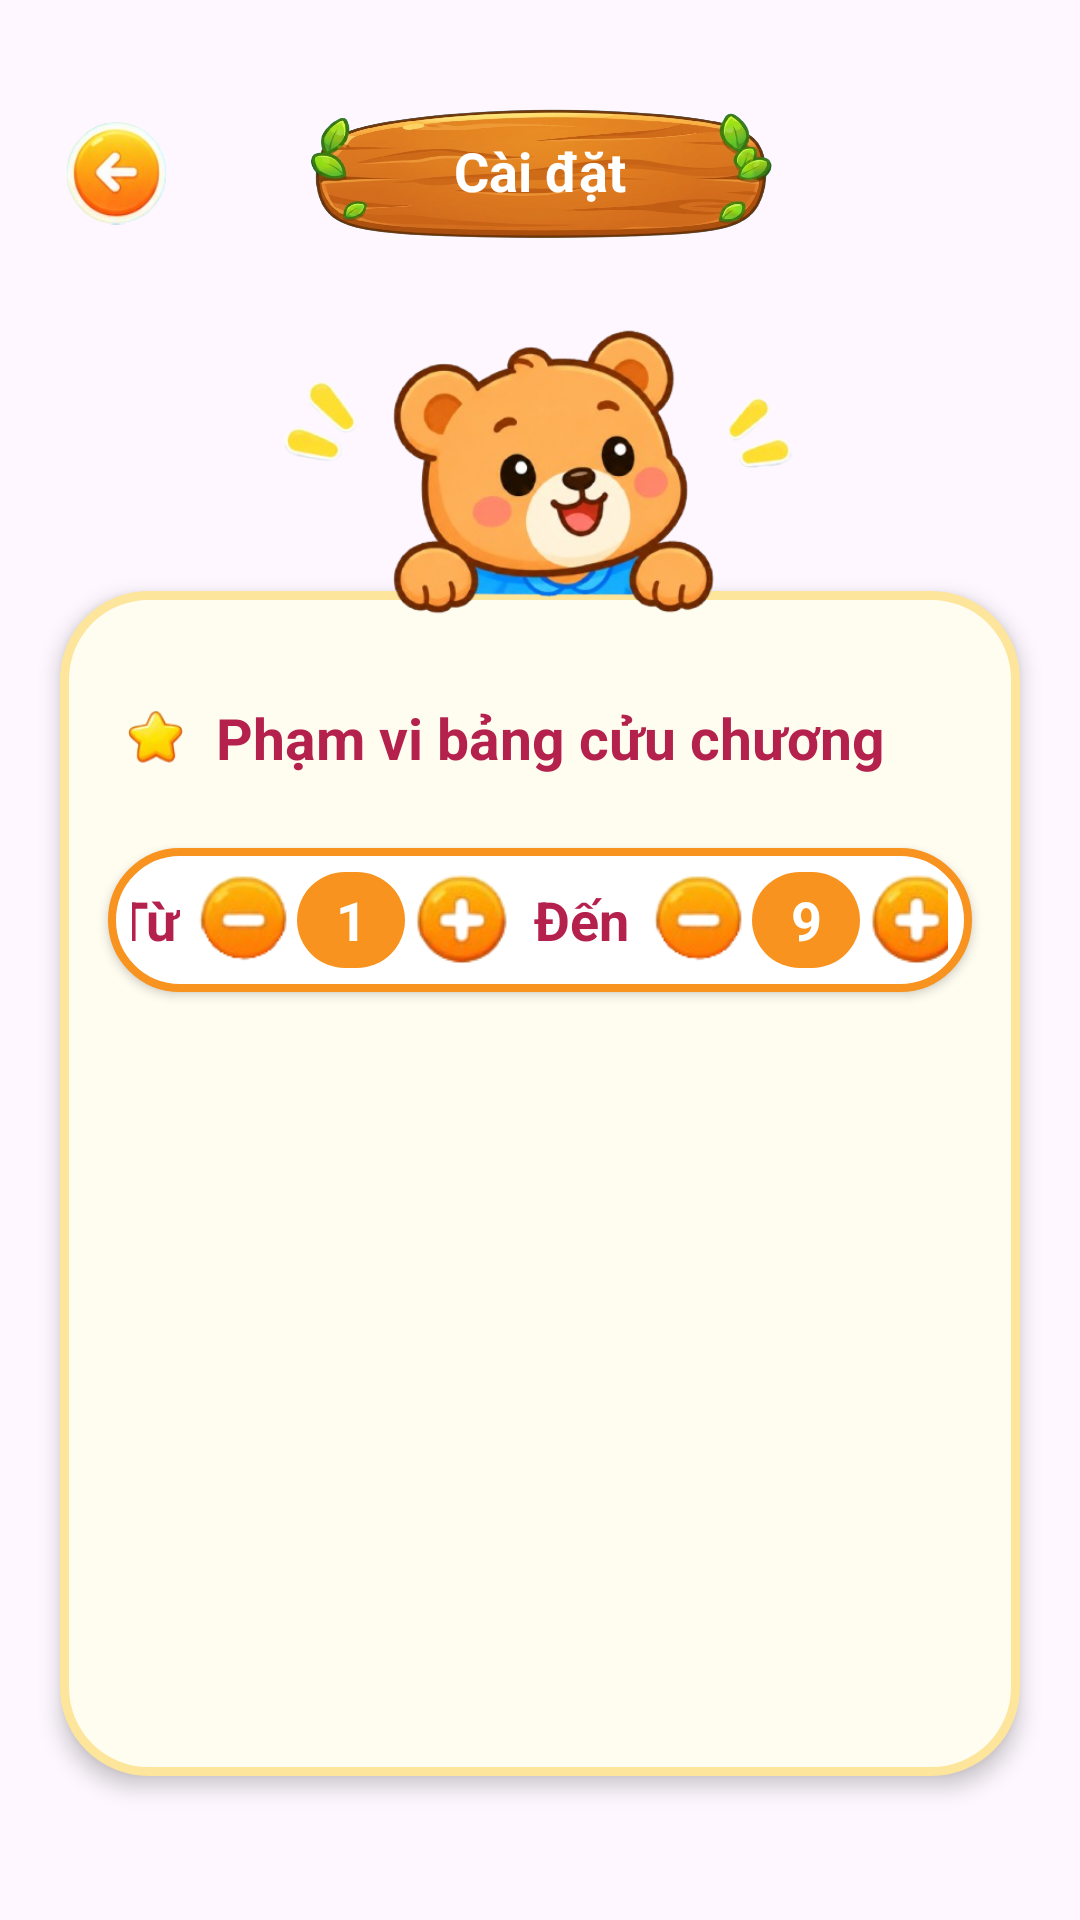

Icon click points for this 1080*1920 phone screenshot, format [x,y]:
Ngôi sao: [155,737]
Quay lại: [116,174]
Tăng từ: [462,919]
Tăng đến: [910,919]
